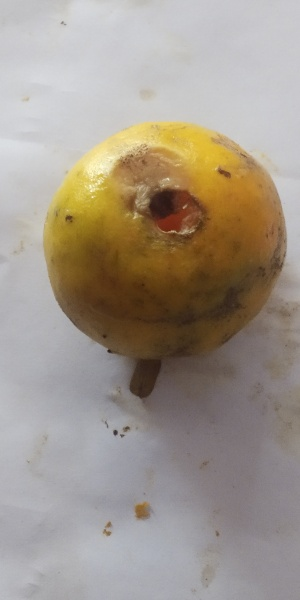BAD: (42, 122, 288, 365)
